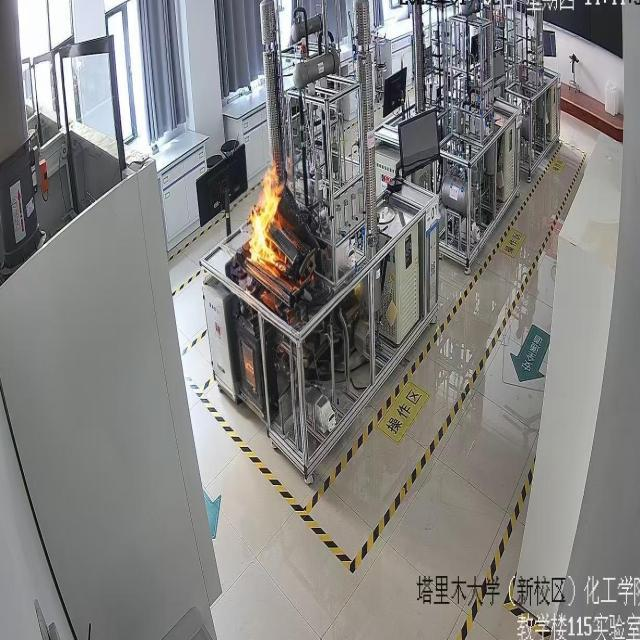smoke: (248, 154, 286, 276)
